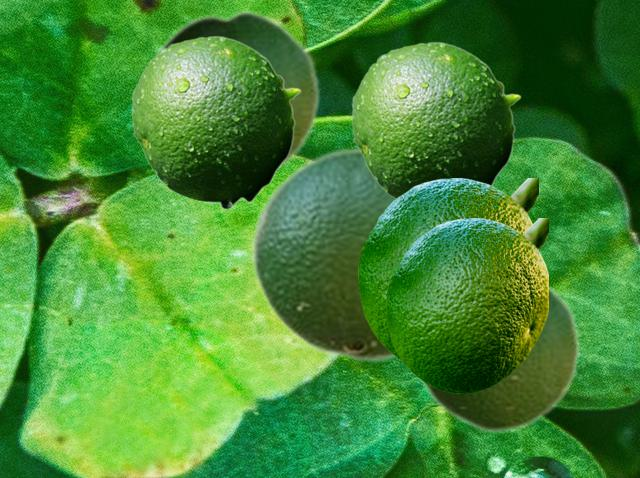dalandan: (358, 178, 537, 360), (250, 146, 400, 363), (145, 7, 320, 176), (131, 35, 300, 209), (386, 218, 547, 392), (351, 41, 520, 199), (415, 282, 580, 434)
